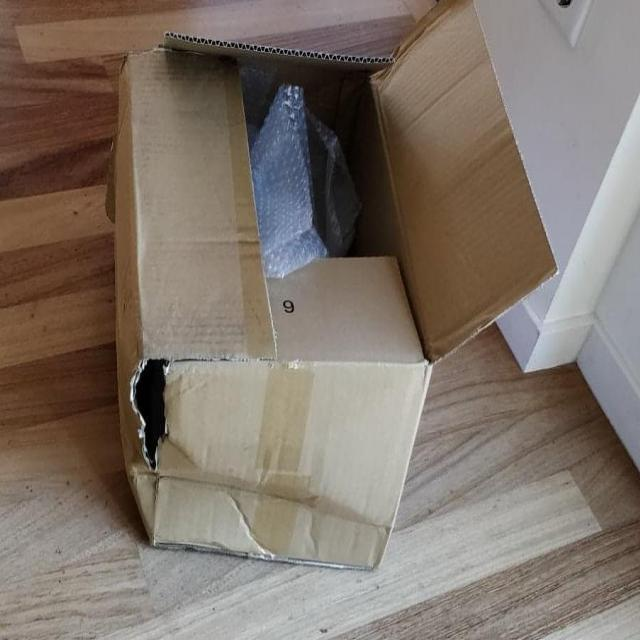damaged: (131, 350, 182, 473)
